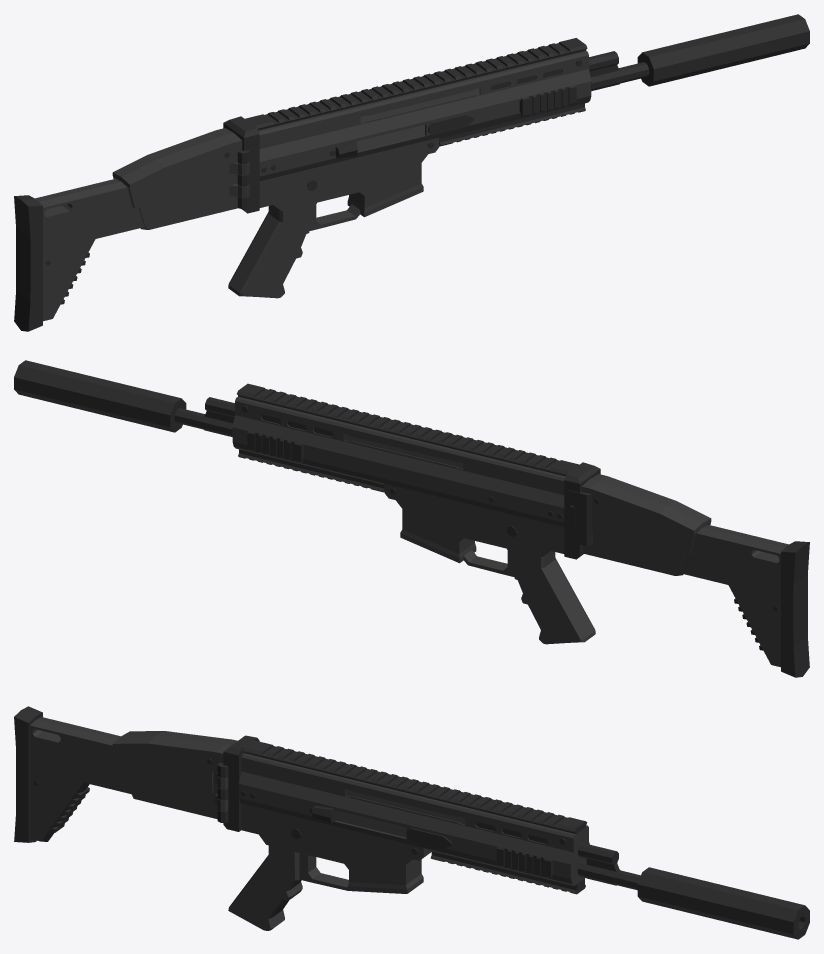
Rendered from AssaultRifle6_01.fbx.
3 renders of one model, top to bottom at view 1: azimuth 30°, elevation 25°; view 2: azimuth 150°, elevation 25°; view 3: azimuth 330°, elevation 25°, orthographic.
Parts seen in each view (by area): view 1: AssaultRifle6_01; view 2: AssaultRifle6_01; view 3: AssaultRifle6_01.
Boxes of the visible parts, bbox=[...] form: AssaultRifle6_01: bbox=[14, 14, 809, 331]; AssaultRifle6_01: bbox=[14, 360, 809, 677]; AssaultRifle6_01: bbox=[14, 706, 809, 939].
Size of the model in its own units: 1.07 by 0.2319 by 0.0635.
